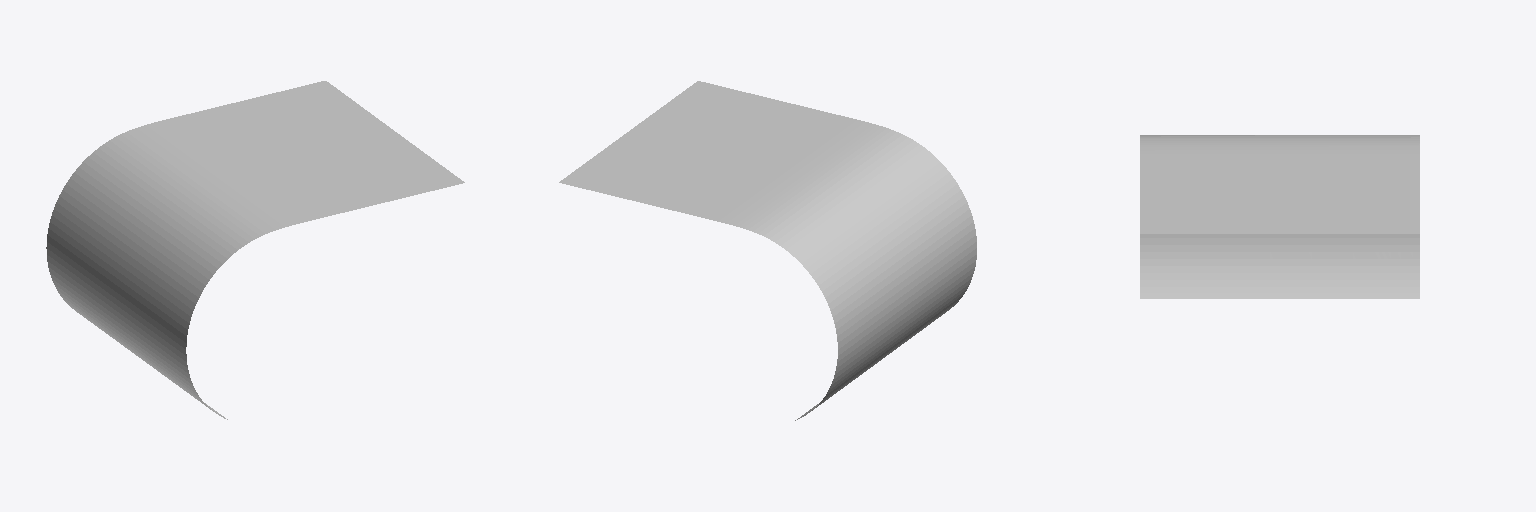
Rendered from CurvePaper_000045.obj.
The picture shows the model from 3 angles: view 1: azimuth 30°, elevation 25°; view 2: azimuth 150°, elevation 25°; view 3: azimuth 270°, elevation 25°; orthographic projection.
Parts seen in each view (by area): view 1: Plane; view 2: Plane; view 3: Plane.
Part boxes in pixels (x1,y1,x2,y2): Plane: (46, 81, 464, 419); Plane: (559, 81, 976, 420); Plane: (1140, 135, 1419, 298).
Size of the model in its own units: 2.61 by 1.61 by 2.26.